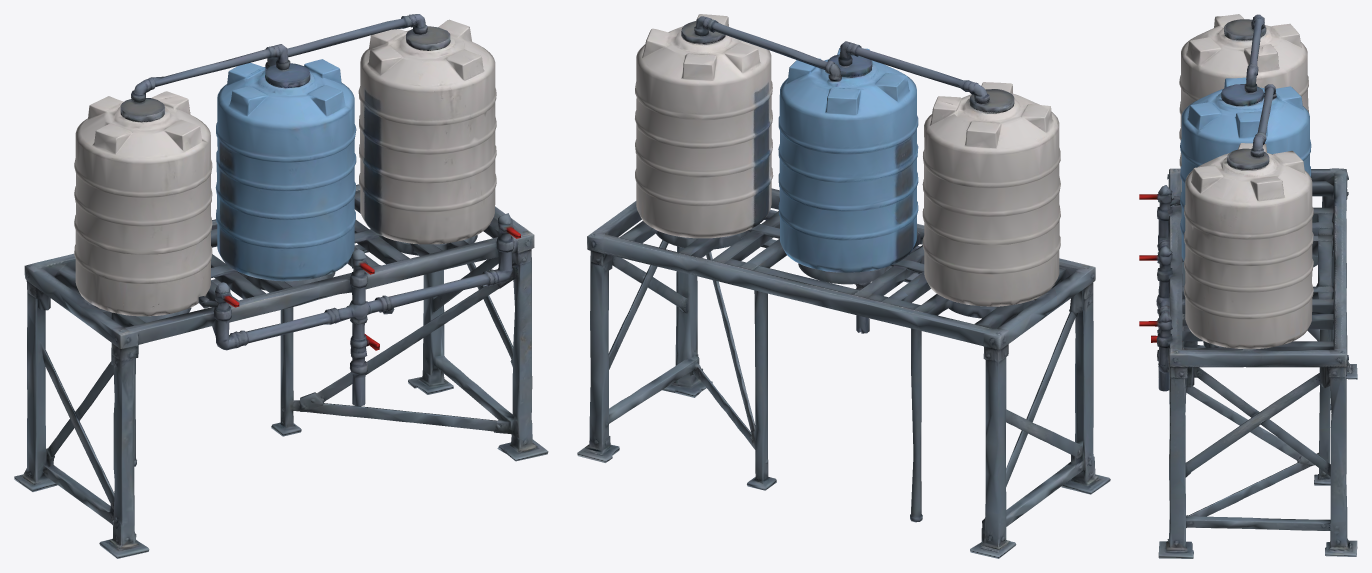
File: roof_tanks.glb
The picture shows the model from 3 angles, left to right: view 1: azimuth 30°, elevation 25°; view 2: azimuth 150°, elevation 25°; view 3: azimuth 270°, elevation 25°; orthographic projection. The views are drawn at different scales.
Size of the model in its own units: 0.9852 by 0.9274 by 0.4678.
1 material, 1 textured.
